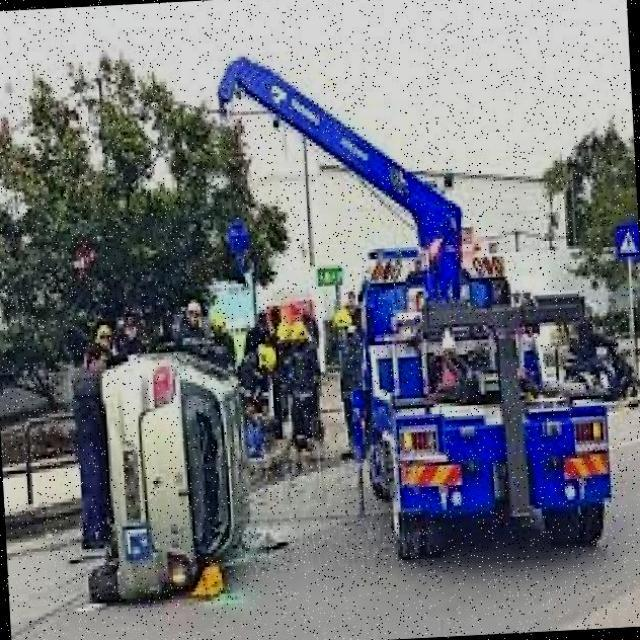accident: (36, 299, 295, 626)
